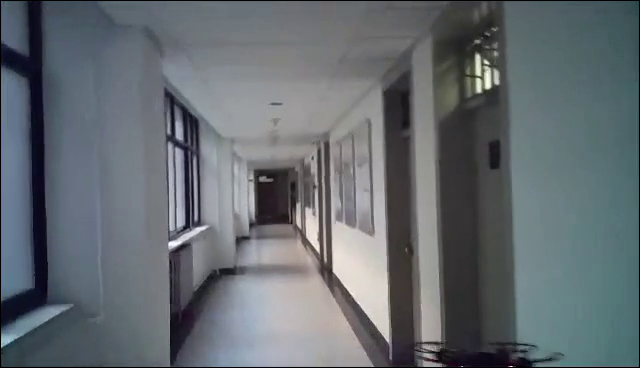drone: (408, 336, 567, 368)
